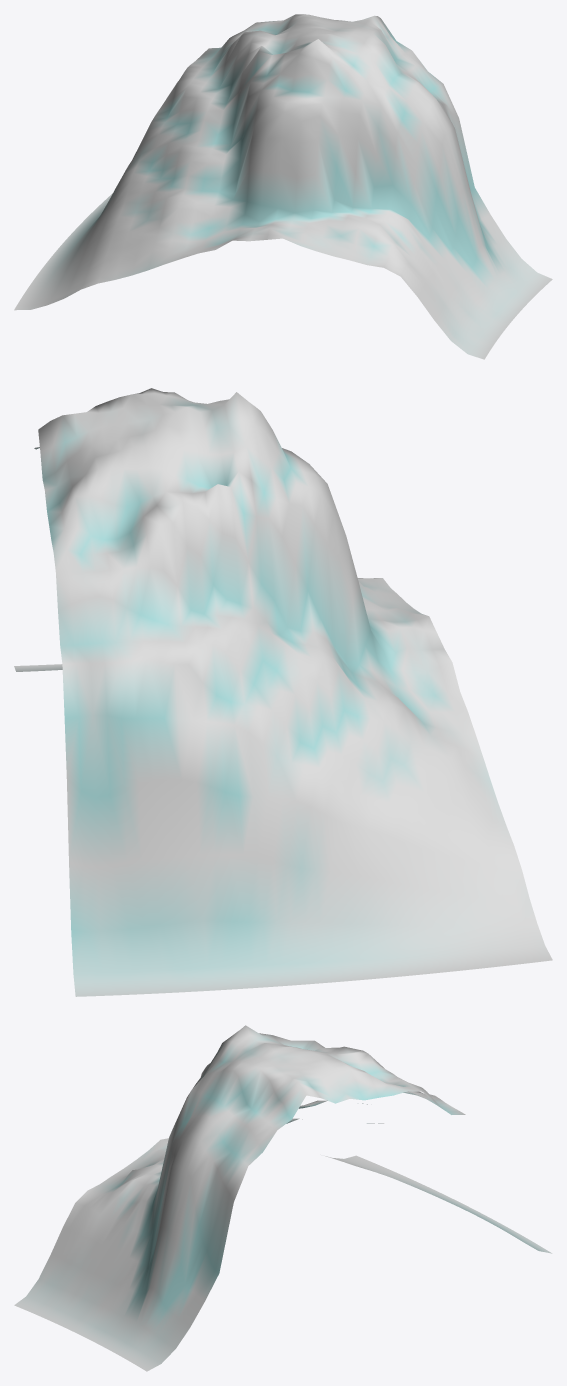
Rendered from middle_6.glb.
3 views of the same model, one above another, from view 1: azimuth 30°, elevation 25°; view 2: azimuth 150°, elevation 25°; view 3: azimuth 270°, elevation 25° (orthographic). The views are drawn at different scales.
Parts seen in each view (by area): view 1: Mountain; view 2: Mountain; view 3: Mountain.
Part boxes in pixels (x1,y1,x2,y2): Mountain: [14, 14, 552, 359]; Mountain: [14, 388, 552, 996]; Mountain: [14, 1025, 552, 1371].
Size of the model in its own units: 623 by 342 by 656.
